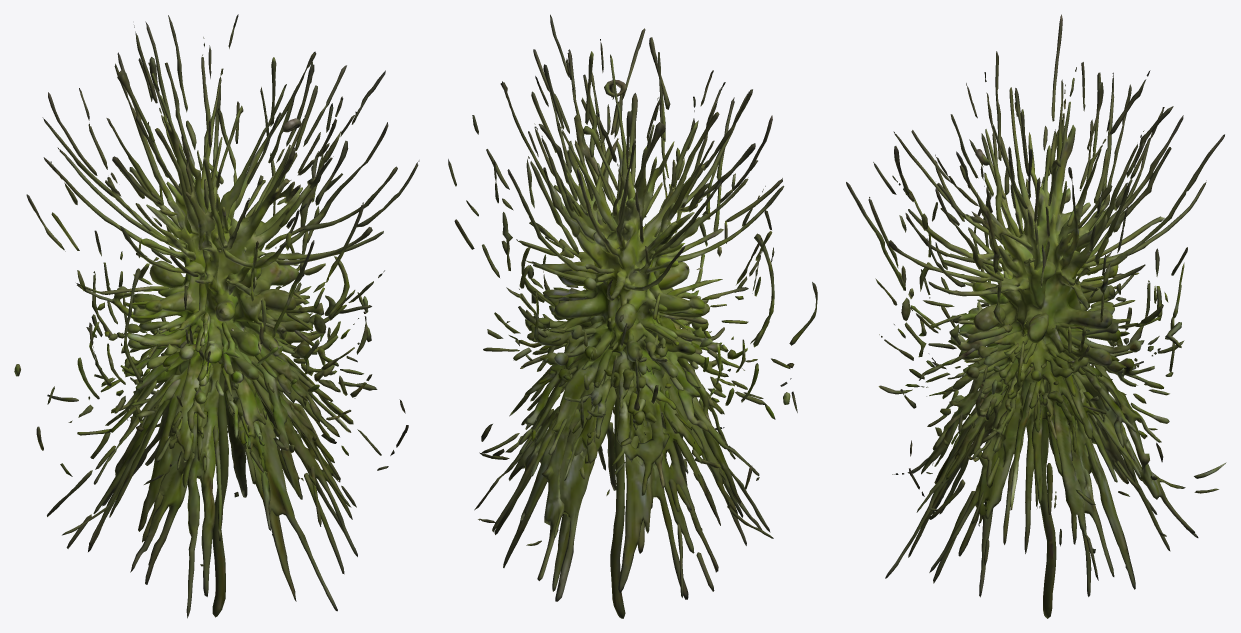
File: herb0090_dup.gltf
The picture shows the model from 3 angles, left to right: view 1: azimuth 30°, elevation 25°; view 2: azimuth 150°, elevation 25°; view 3: azimuth 270°, elevation 25°; orthographic projection. The views are drawn at different scales.
Parts seen in each view (by area): view 1: Mesh_0.029; view 2: Mesh_0.029; view 3: Mesh_0.029.
Part boxes in pixels (x1,y1,x2,y2): Mesh_0.029: (14, 14, 419, 618); Mesh_0.029: (448, 14, 817, 618); Mesh_0.029: (846, 14, 1226, 618).
Size of the model in its own units: 1.23 by 2 by 1.29.
1 material, 1 textured.
